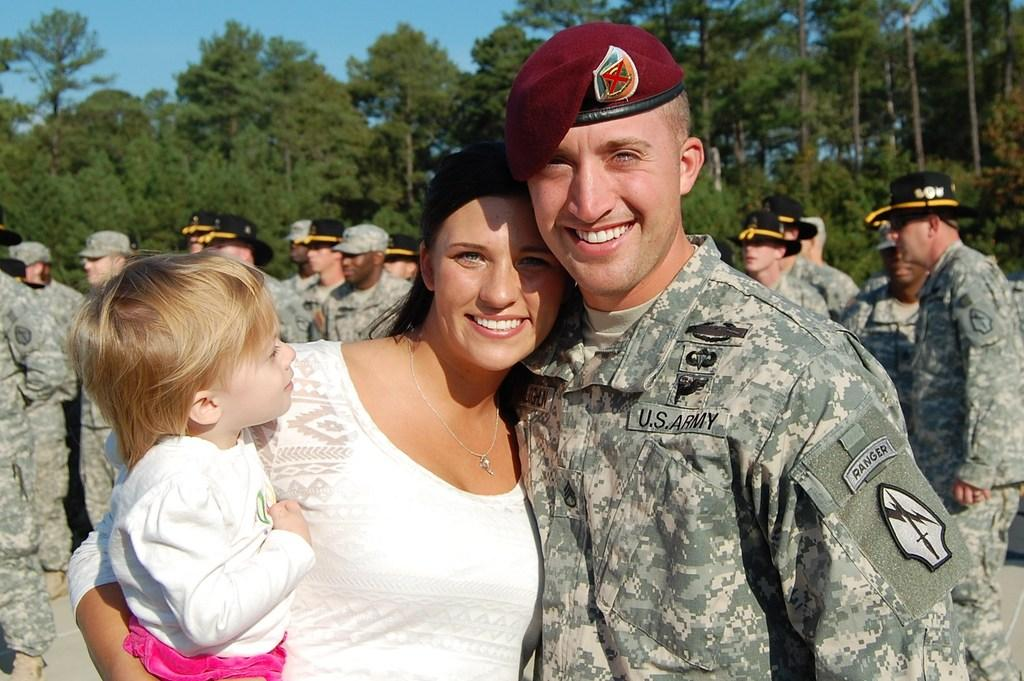Hat: (863, 171, 972, 231), (190, 222, 271, 267), (762, 196, 818, 238), (728, 209, 788, 248), (334, 223, 392, 254), (76, 230, 134, 258), (300, 218, 350, 247), (7, 240, 53, 264), (380, 236, 416, 262), (864, 192, 888, 227), (0, 212, 20, 248), (184, 214, 214, 236)
